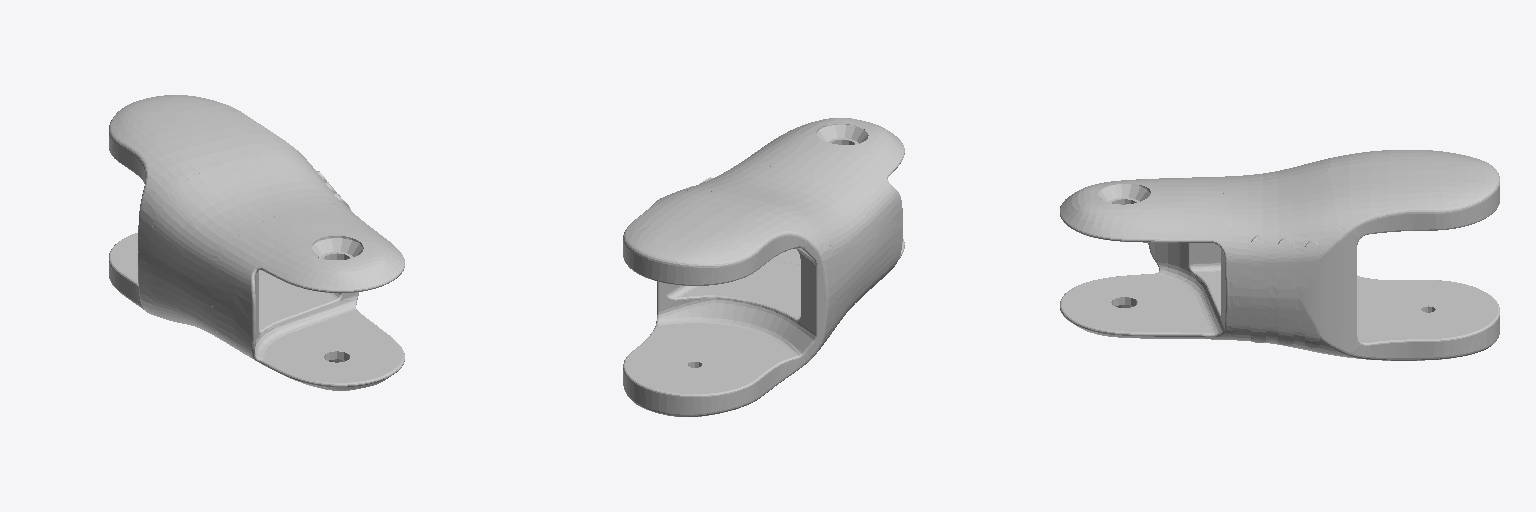
Rendered from middle_finger_proximal.obj.
3 renders of one model, left to right at view 1: azimuth 30°, elevation 25°; view 2: azimuth 150°, elevation 25°; view 3: azimuth 270°, elevation 25°, orthographic.
Parts seen in each view (by area): view 1: Middle_Proximal; view 2: Middle_Proximal; view 3: Middle_Proximal.
Part boxes in pixels (x1,y1,x2,y2): Middle_Proximal: (109,95,404,390); Middle_Proximal: (623,118,904,416); Middle_Proximal: (1060,150,1499,360).
Size of the model in its own units: 0.0233 by 0.0209 by 0.0498.